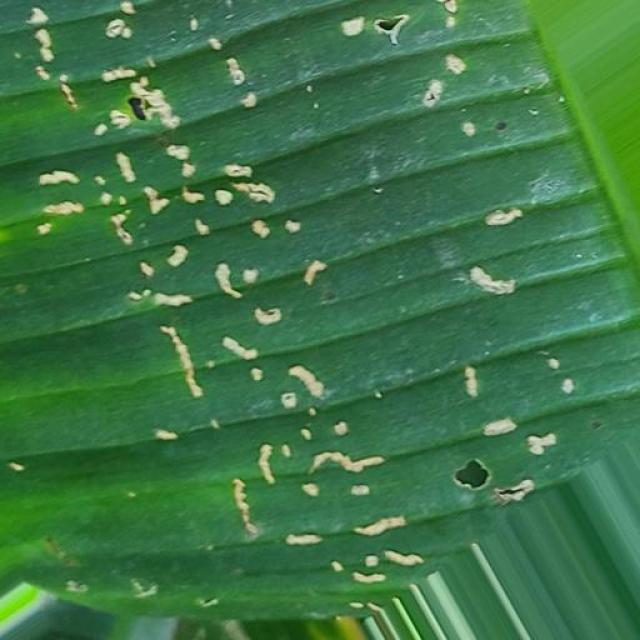Black_rot: (5, 0, 631, 605)
